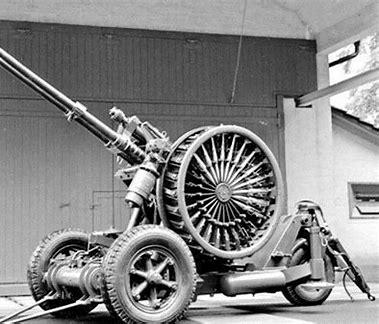MIL_SPG: (0, 48, 375, 323)
